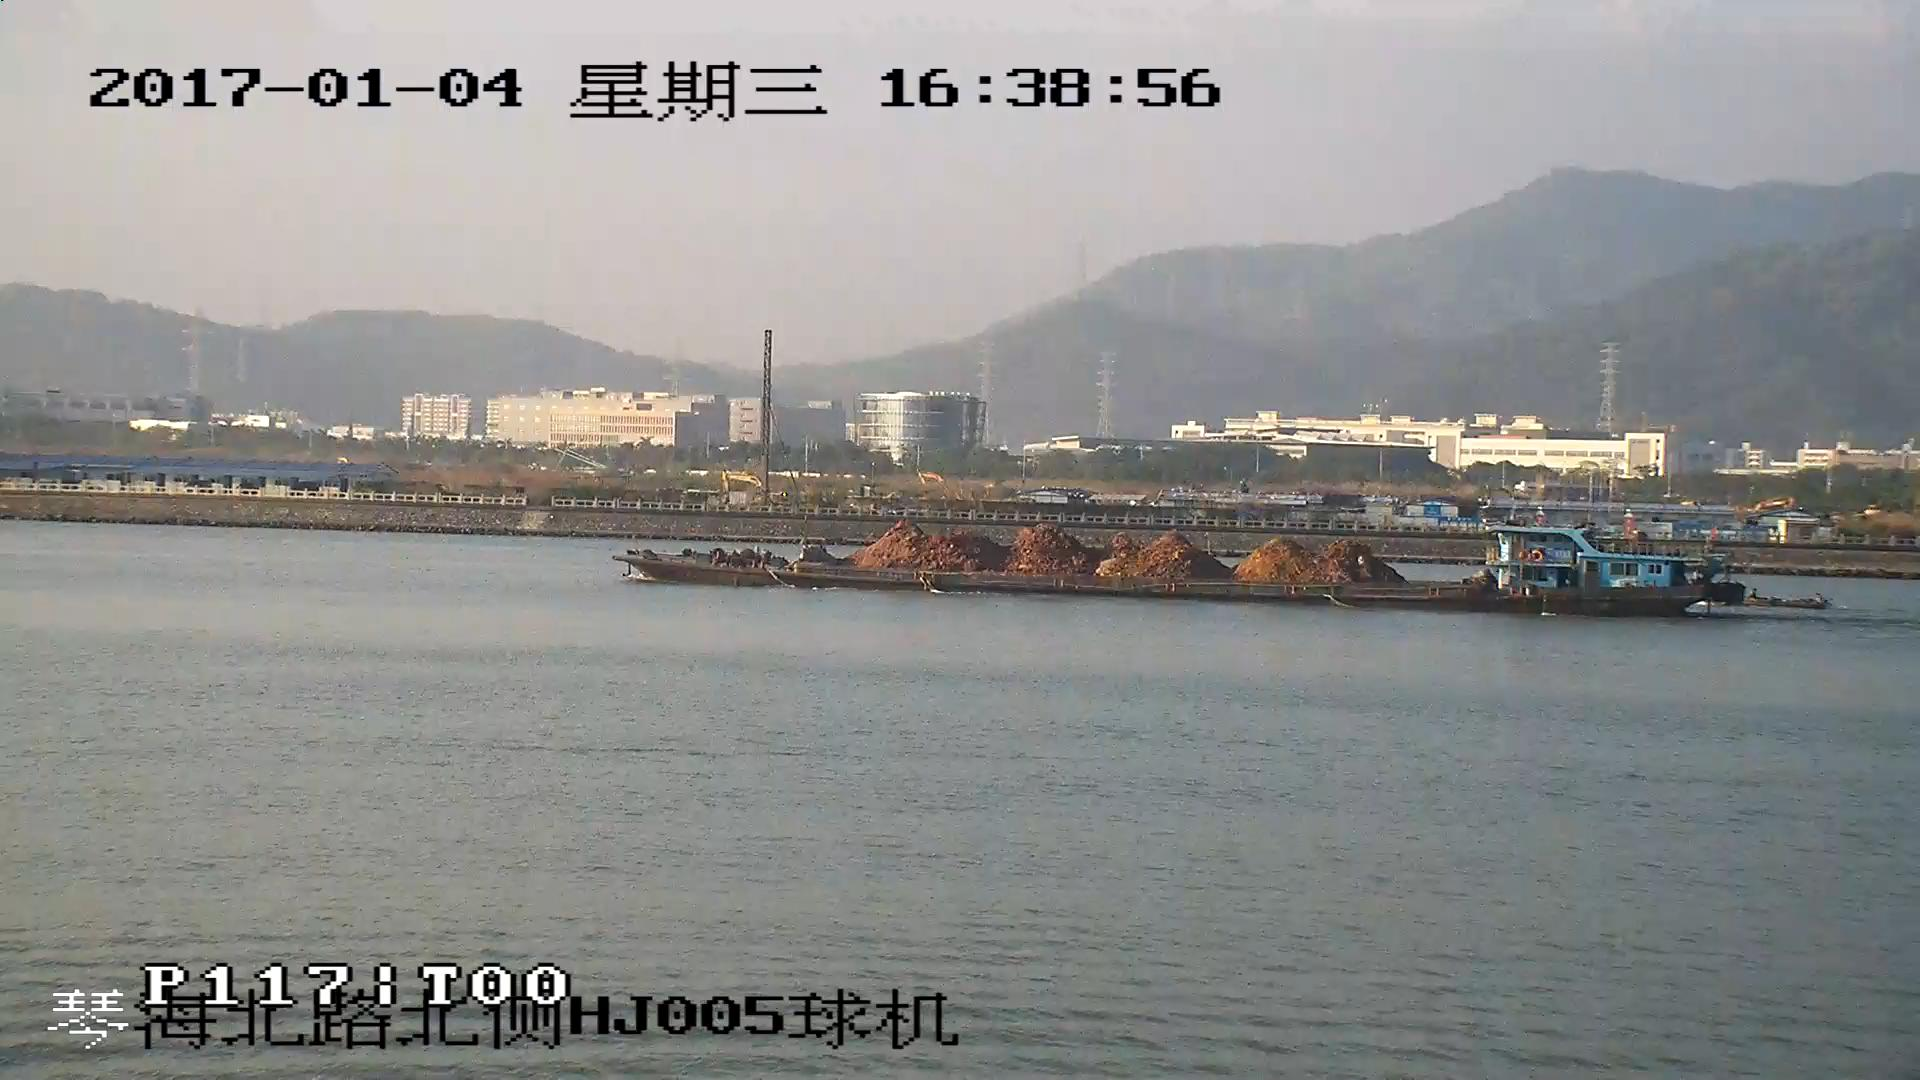ore carrier: (623, 520, 1743, 618)
